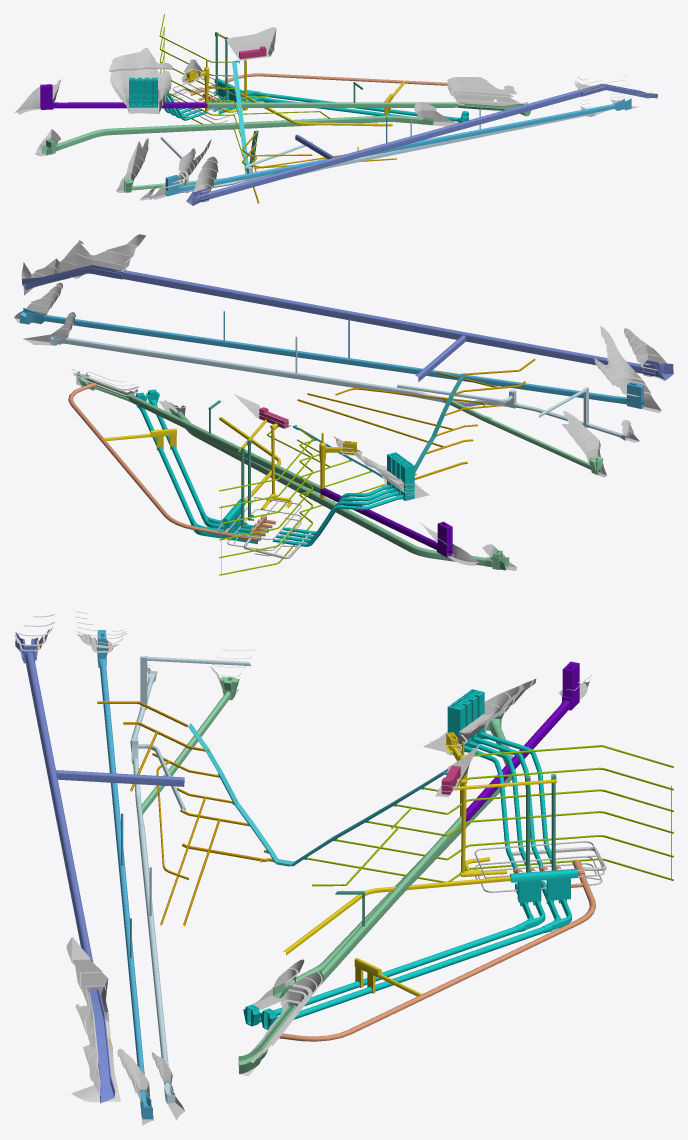
File: SJK1BD.glb
The picture shows the model from 3 angles, top to bottom: view 1: azimuth 30°, elevation 25°; view 2: azimuth 150°, elevation 25°; view 3: azimuth 270°, elevation 25°; orthographic projection. The views are drawn at different scales.
Visible parts, largest first — view 1: SJK1BD_SJK1WR1; view 2: SJK1BD_SJK1WR1; view 3: SJK1BD_SJK1WR1.
Part boxes in pixels (x1,y1,x2,y2): SJK1BD_SJK1WR1: (14, 14, 657, 205); SJK1BD_SJK1WR1: (14, 234, 673, 575); SJK1BD_SJK1WR1: (14, 611, 673, 1125).
Size of what is drawn, in the model's own units: 2317 by 456 by 1516.
